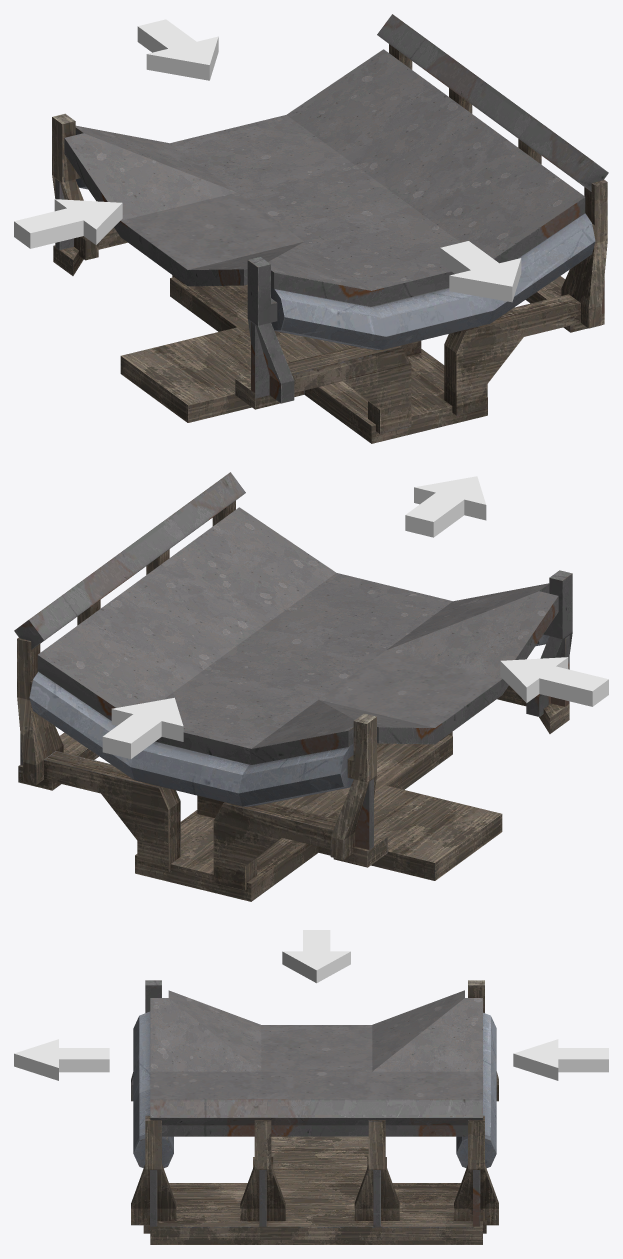
The model's file is LCombiner.glb.
3 views of the same model, one above another, from view 1: azimuth 30°, elevation 25°; view 2: azimuth 150°, elevation 25°; view 3: azimuth 270°, elevation 25° (orthographic). The views are drawn at different scales.
Visible parts, largest first — view 1: Renderer, ghostarrow (2), ghostarrow (1), ghostarrow; view 2: Renderer, ghostarrow (2), ghostarrow (1), ghostarrow; view 3: Renderer, ghostarrow (1), ghostarrow, ghostarrow (2).
Boxes of the visible parts, x1,y1,x2,y2 form: Renderer: (52,14,608,443); ghostarrow (2): (14,199,122,248); ghostarrow (1): (137,19,218,80); ghostarrow: (440,241,521,302); Renderer: (14,472,572,901); ghostarrow (2): (500,657,608,706); ghostarrow (1): (102,697,183,758); ghostarrow: (405,476,486,537); Renderer: (131,980,498,1244); ghostarrow (1): (513,1039,608,1080); ghostarrow: (14,1039,109,1080); ghostarrow (2): (282,930,350,983).
Size of the model in its own units: 1.39 by 0.6235 by 1.79.
4 materials, 2 textured.
